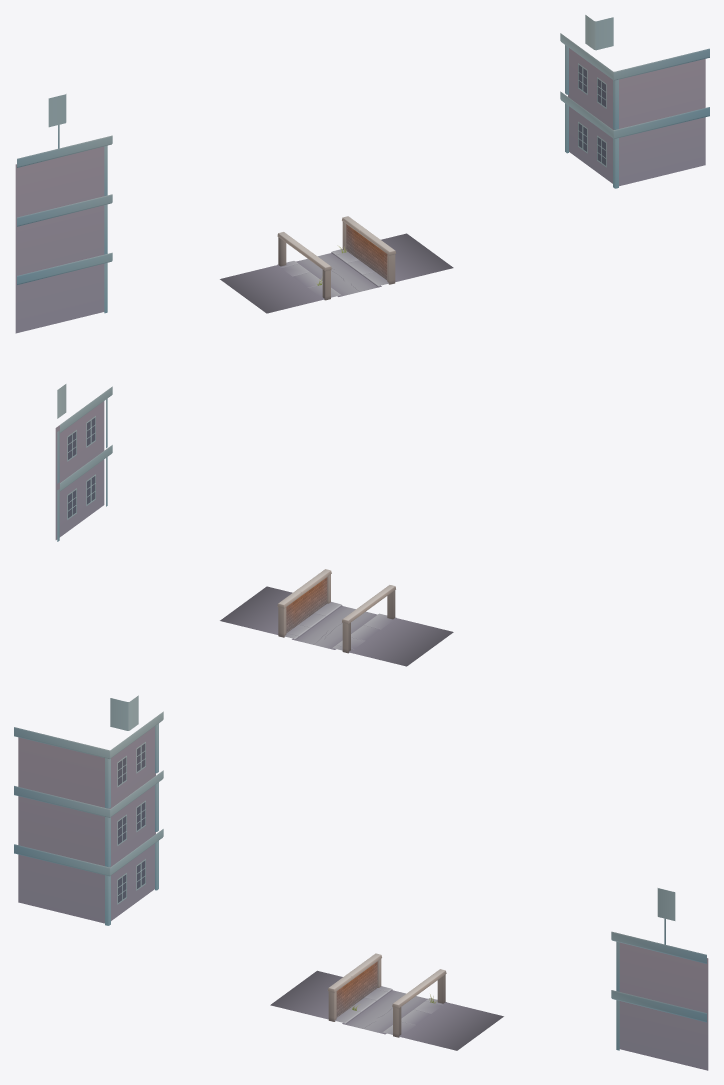
The model's file is UrbanBrickWalls02.prefab.glb.
The picture shows the model from 3 angles, top to bottom: view 1: azimuth 30°, elevation 25°; view 2: azimuth 150°, elevation 25°; view 3: azimuth 330°, elevation 25°; orthographic projection.
Parts seen in each view (by area): view 1: FarBackBuilding01, UrbanBrickWalls02, BrickWall, BrickWall (1); view 2: UrbanBrickWalls02, FarBackBuilding01, BrickWall, BrickWall (1); view 3: FarBackBuilding01, UrbanBrickWalls02, BrickWall (1), BrickWall.
Boxes of the visible parts, x1,y1,x2,y2 form: FarBackBuilding01: [15, 15, 709, 333]; UrbanBrickWalls02: [220, 233, 453, 313]; BrickWall: [342, 216, 396, 284]; BrickWall (1): [277, 232, 331, 300]; UrbanBrickWalls02: [220, 586, 453, 666]; FarBackBuilding01: [55, 384, 112, 541]; BrickWall: [277, 569, 331, 637]; BrickWall (1): [342, 585, 395, 653]; FarBackBuilding01: [14, 695, 708, 1070]; UrbanBrickWalls02: [270, 970, 503, 1050]; BrickWall (1): [327, 953, 381, 1021]; BrickWall: [392, 969, 446, 1037].
Bounding box in the file's own units: 76.34 × 26.74 × 10.17.
Materials: 2 (1 with a texture image).
